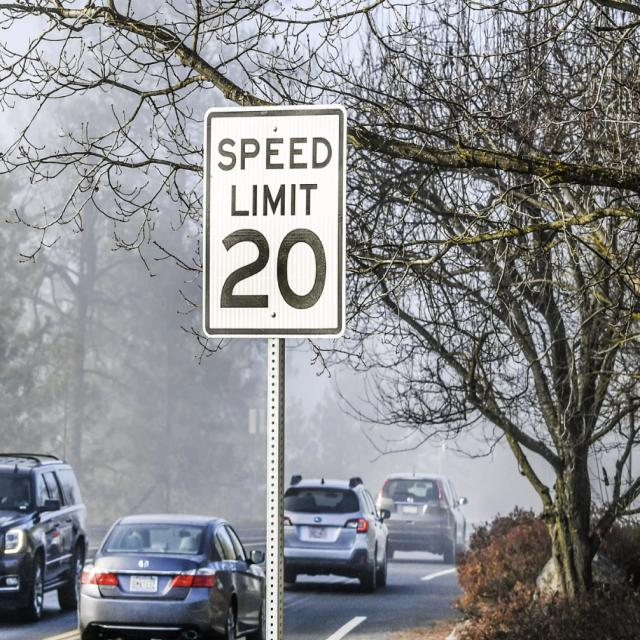speedLimit20: (206, 110, 340, 334)
